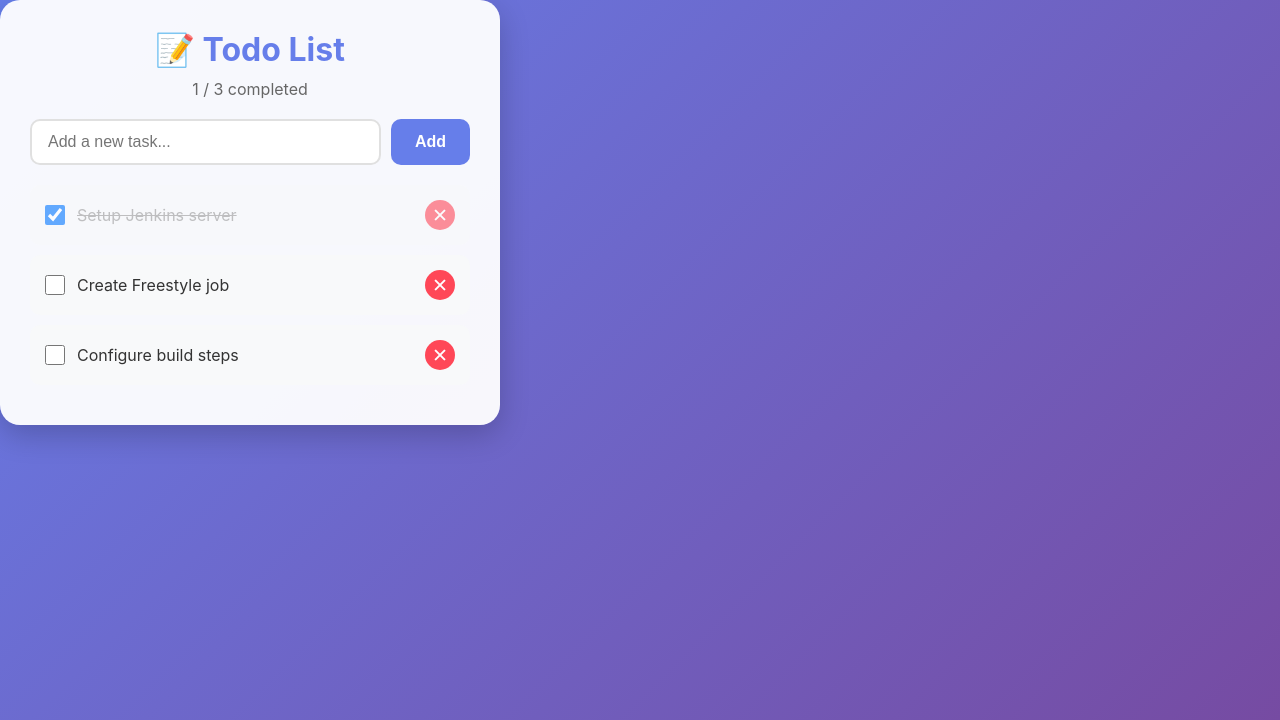
TodoList Component › adds new todo
In the field with placeholder "Add a new task...": (205, 142) [30,119,381,165], type "New test task"
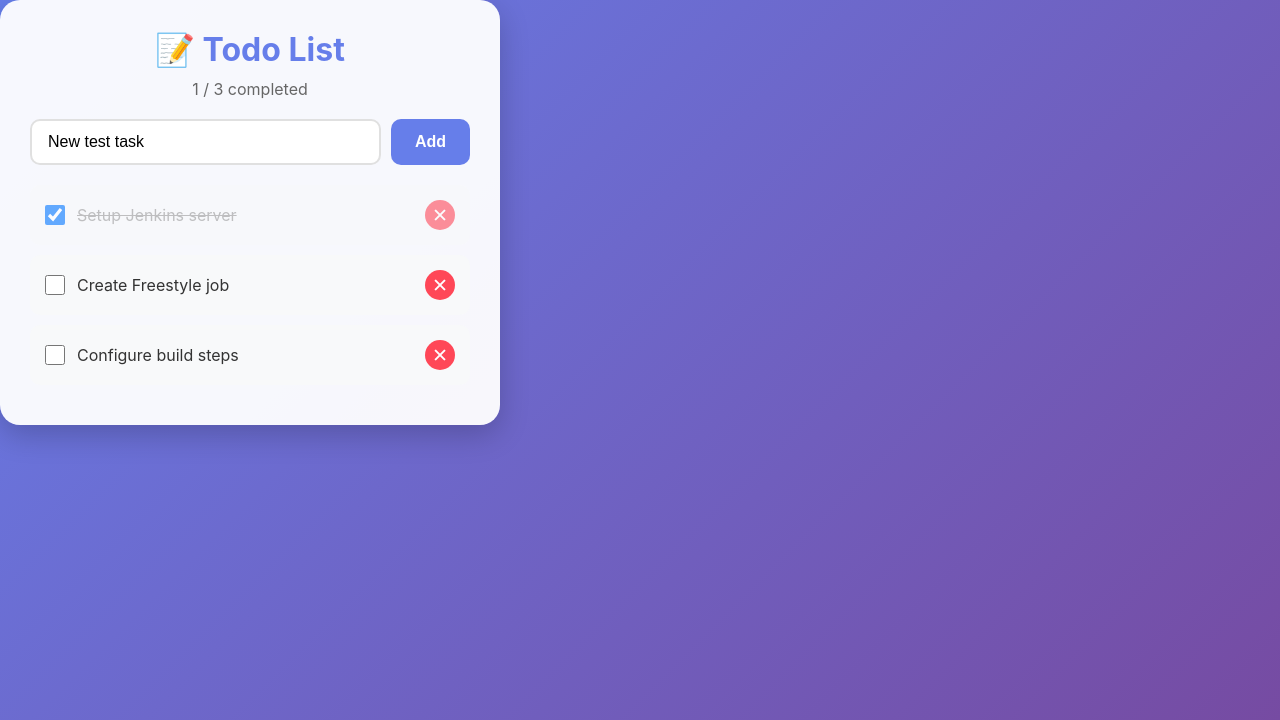
Click the button "Add": (430, 142) [391,119,470,165]
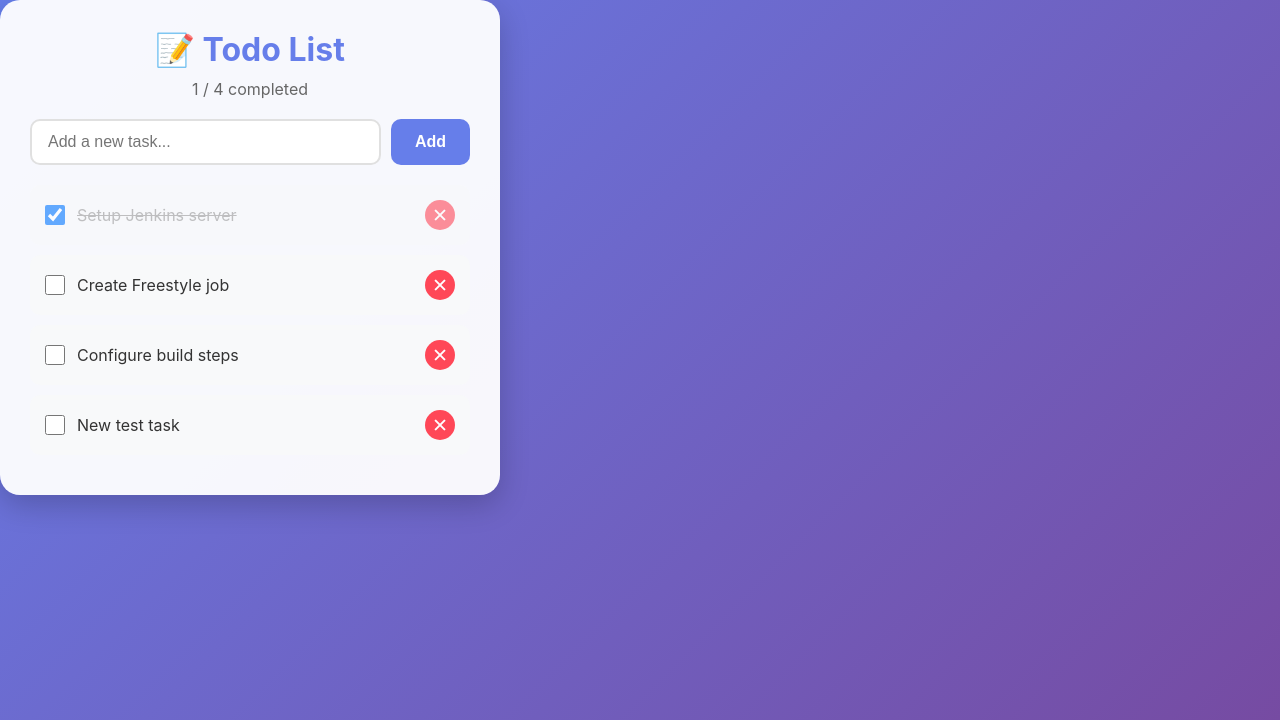
Result: the text "New test task" is shown at [77,415,180,435]
